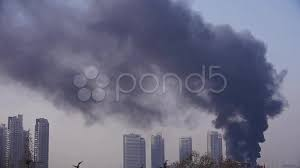smoke: (11, 1, 221, 131), (223, 31, 293, 161)
